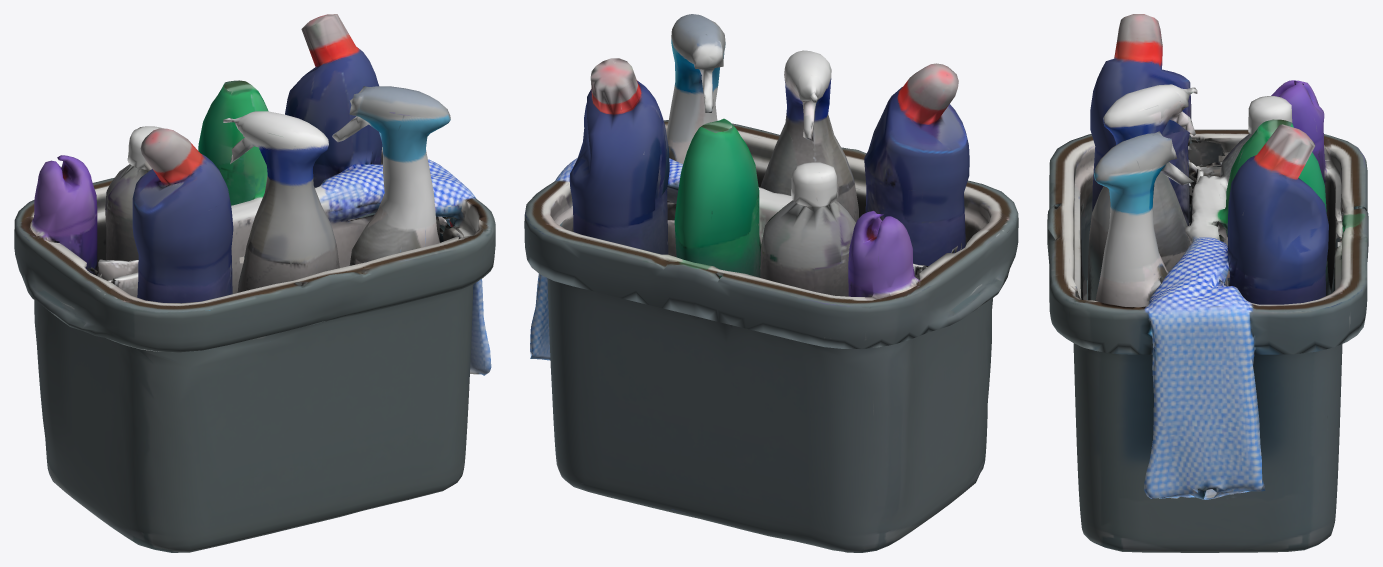
File: Meshy_AI_Cleaning_Essentials_K_0107161215_texture.fbx
The picture shows the model from 3 angles, left to right: view 1: azimuth 30°, elevation 25°; view 2: azimuth 150°, elevation 25°; view 3: azimuth 270°, elevation 25°; orthographic projection. The views are drawn at different scales.
Visible parts, largest first — view 1: Mesh0; view 2: Mesh0; view 3: Mesh0.
Boxes of the visible parts, x1=… form: Mesh0: x1=14, y1=14, x2=495, y2=552; Mesh0: x1=524, y1=14, x2=1018, y2=552; Mesh0: x1=1047, y1=14, x2=1368, y2=552.
Size of the model in its own units: 191 by 180 by 130.
1 material, 1 textured.
